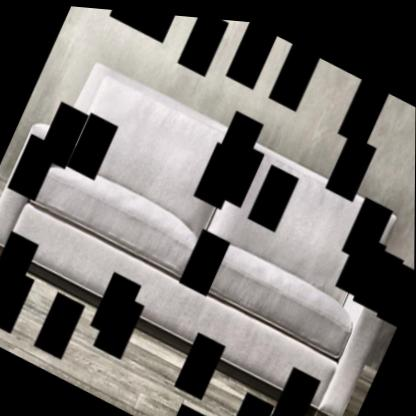Sofa: (0, 37, 416, 416)
